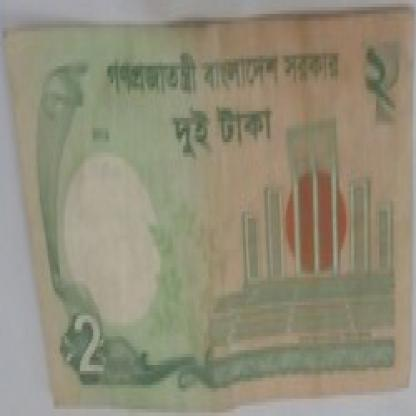two taka: (63, 302, 115, 388), (363, 38, 394, 142)
